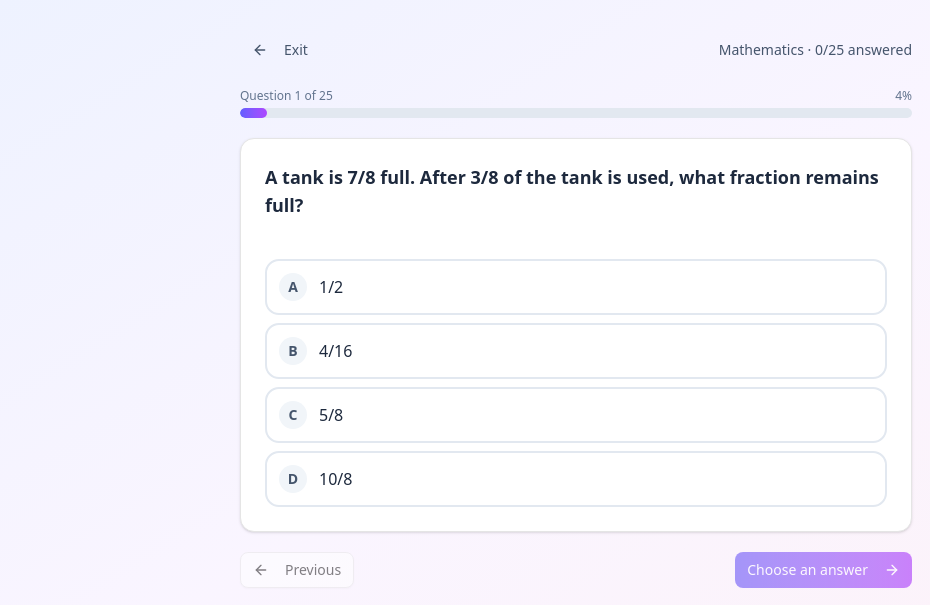
Test: Aden's Grade 5 journey › saves the current question and answers across a reload
The width and height of the screenshot is (930, 605).
Later steps or results of the test are not shown.
Expected: the text "Question 1 of 25" is shown, 240,88 -> 333,104
Click the button "A 1/2".
click(293, 287)  # box 265,259 -> 887,315
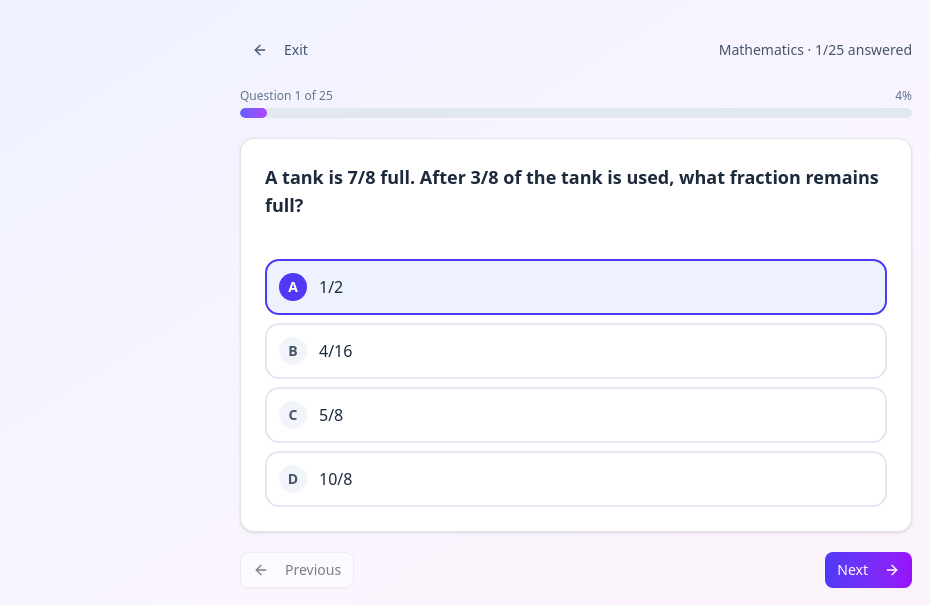
Click the button "Next".
click(869, 570)  # box 825,552 -> 912,588
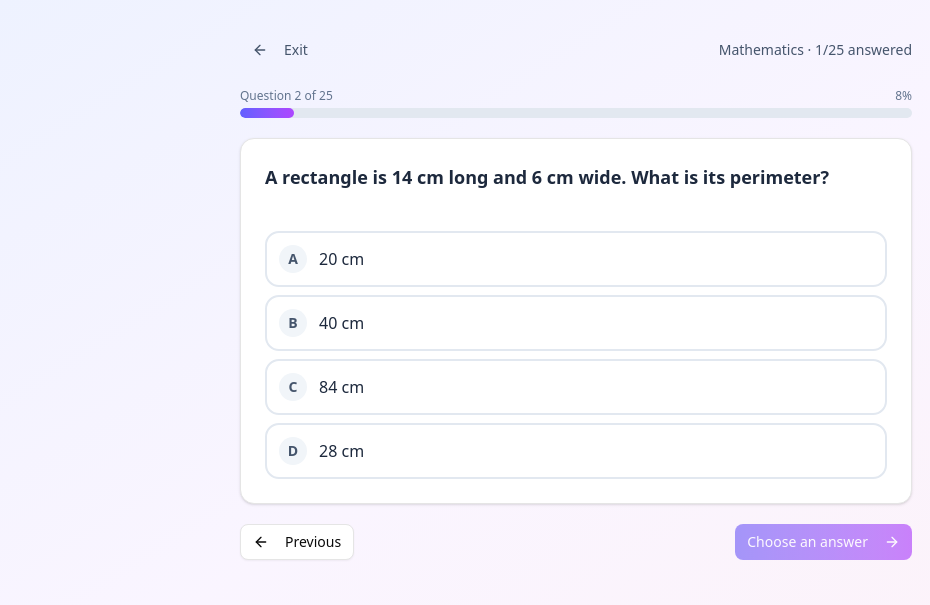
Result: the text "Question 2 of 25" is shown at 240,88 -> 333,104
